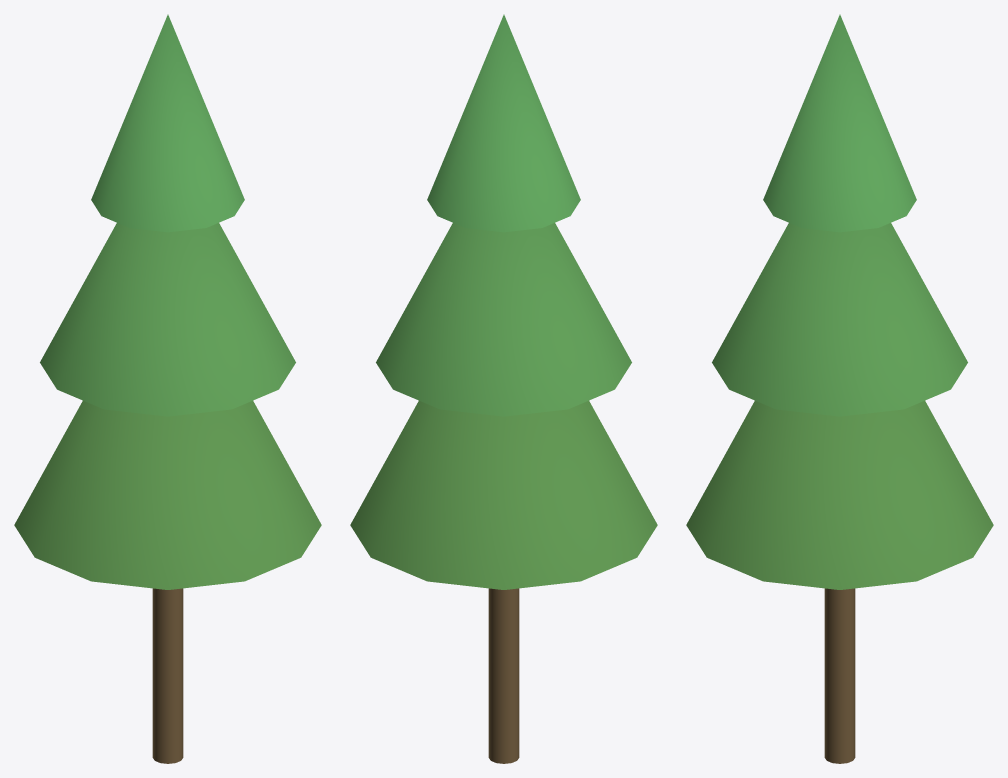
The model's file is env-med-pine.glb.
The picture shows the model from 3 angles, left to right: view 1: azimuth 30°, elevation 25°; view 2: azimuth 150°, elevation 25°; view 3: azimuth 270°, elevation 25°; orthographic projection.
Bounding box in the file's own units: 3 × 8 × 3.
